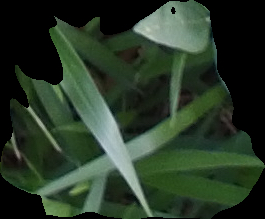grass: (1, 1, 264, 218)
